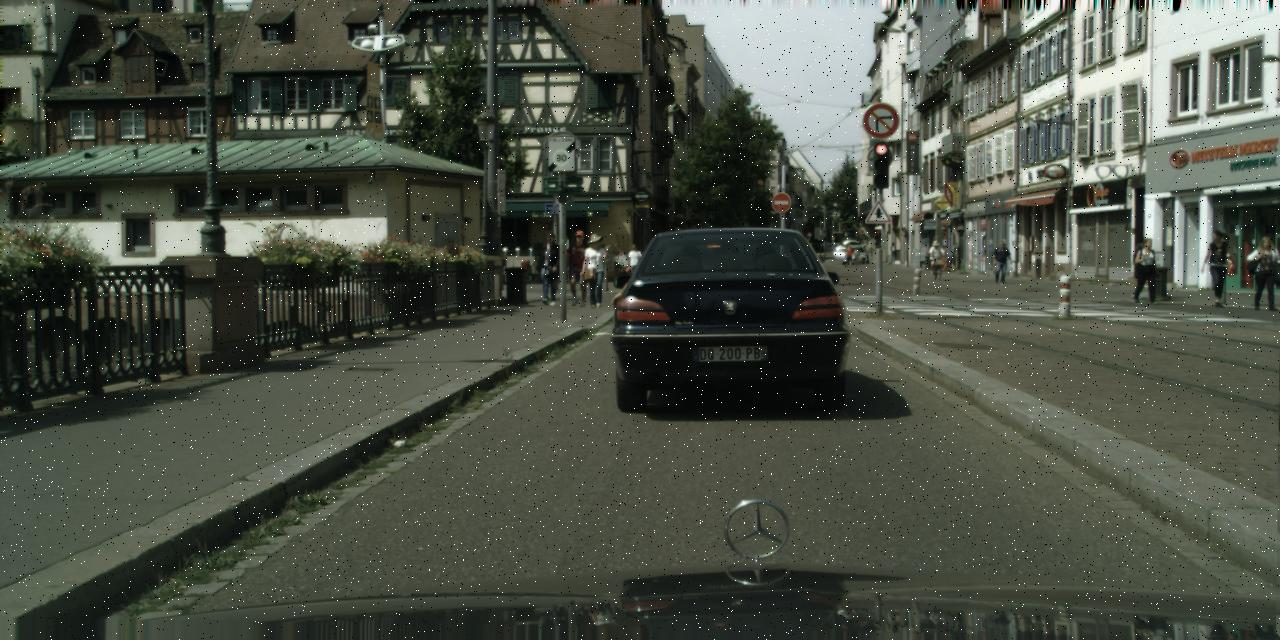ped: (563, 230, 594, 306), (1202, 230, 1232, 306), (580, 232, 610, 307), (534, 233, 564, 304), (1251, 236, 1279, 310), (1133, 238, 1160, 304), (624, 244, 644, 289), (991, 240, 1008, 284), (929, 240, 942, 272), (888, 242, 896, 264), (844, 245, 852, 266), (852, 248, 859, 265)
